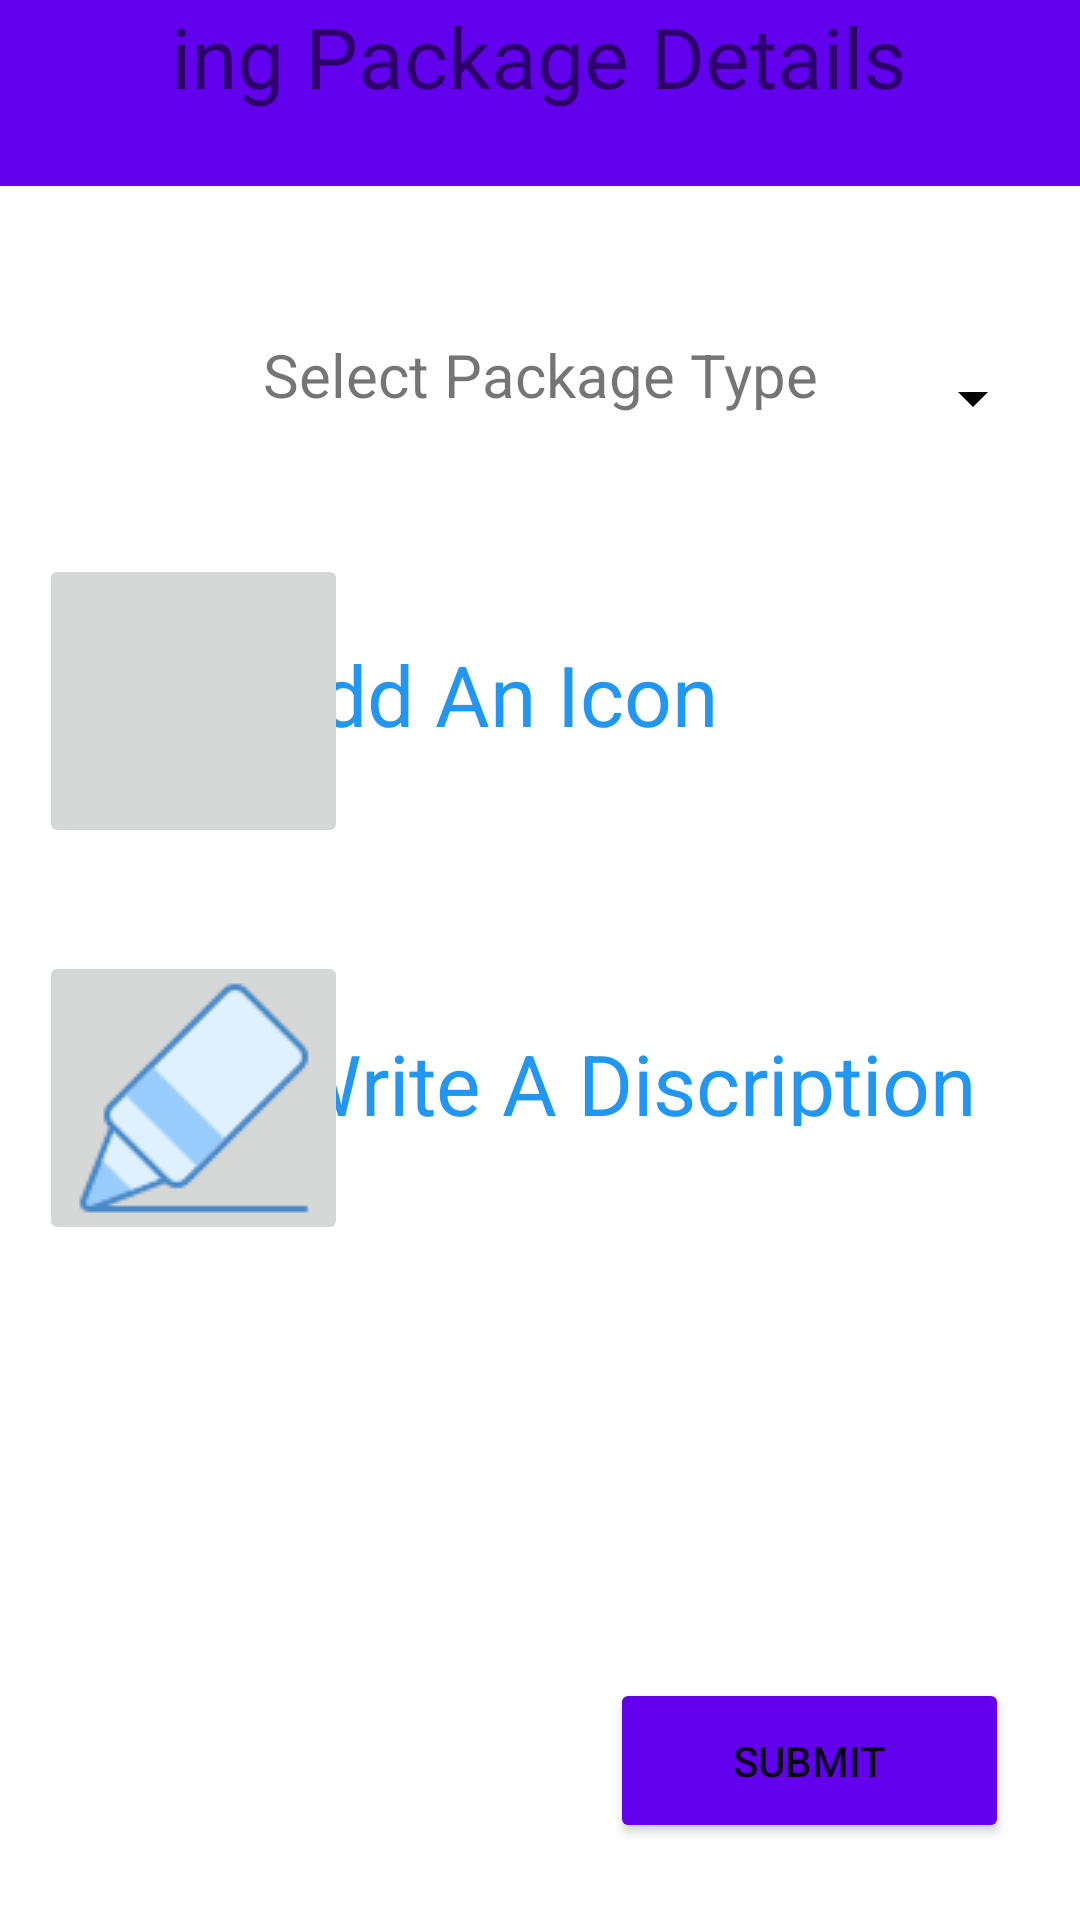

Where icons sit on this 1080*1920 app screen, as bbox=[x1, y1, x2, y2]:
add discription: bbox=[51, 969, 348, 1227]
